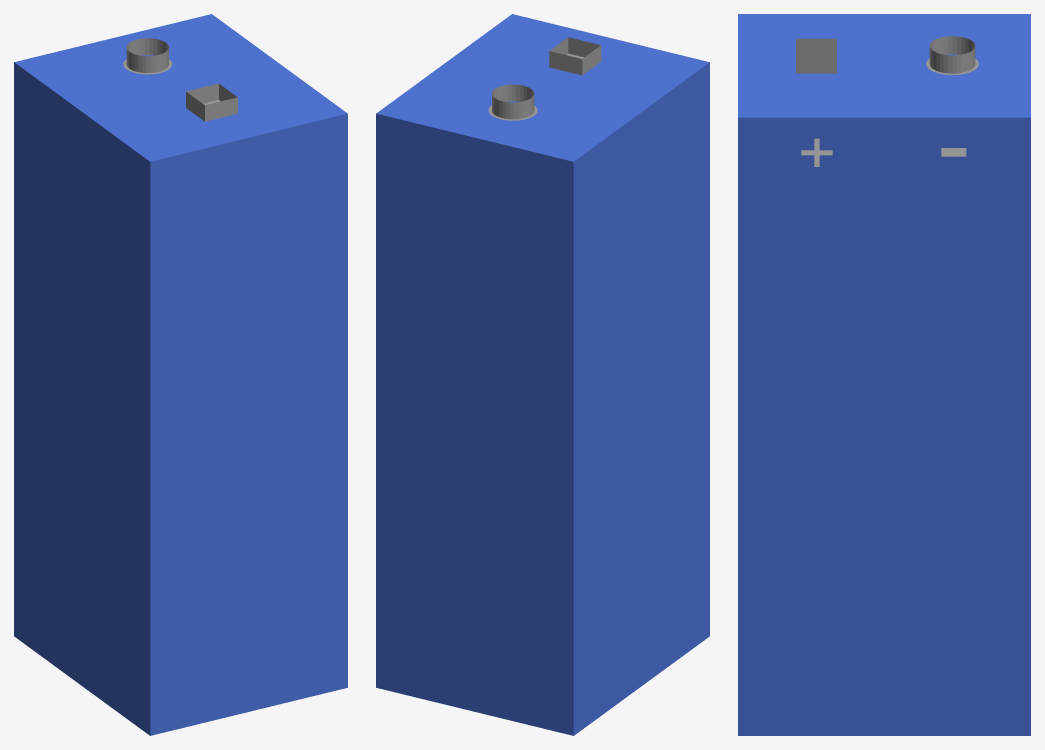
The model's file is battery.glb.
3 renders of one model, left to right at view 1: azimuth 30°, elevation 25°; view 2: azimuth 150°, elevation 25°; view 3: azimuth 270°, elevation 25°, orthographic. The views are drawn at different scales.
Visible parts, largest first — view 1: Куб, Куб.001, Окружность; view 2: Куб, Куб.001, Окружность; view 3: Куб, Окружность, Куб.001.
Boxes of the visible parts, <box> form: Куб: <box>14,14,347,735</box>; Куб.001: <box>186,83,237,121</box>; Окружность: <box>123,38,172,74</box>; Куб: <box>376,14,709,735</box>; Куб.001: <box>549,37,601,75</box>; Окружность: <box>488,84,537,120</box>; Куб: <box>738,14,1030,735</box>; Окружность: <box>926,36,978,74</box>; Куб.001: <box>796,38,836,73</box>.
Bounding box in the file's own units: 1.49 × 4.26 × 1.78.
